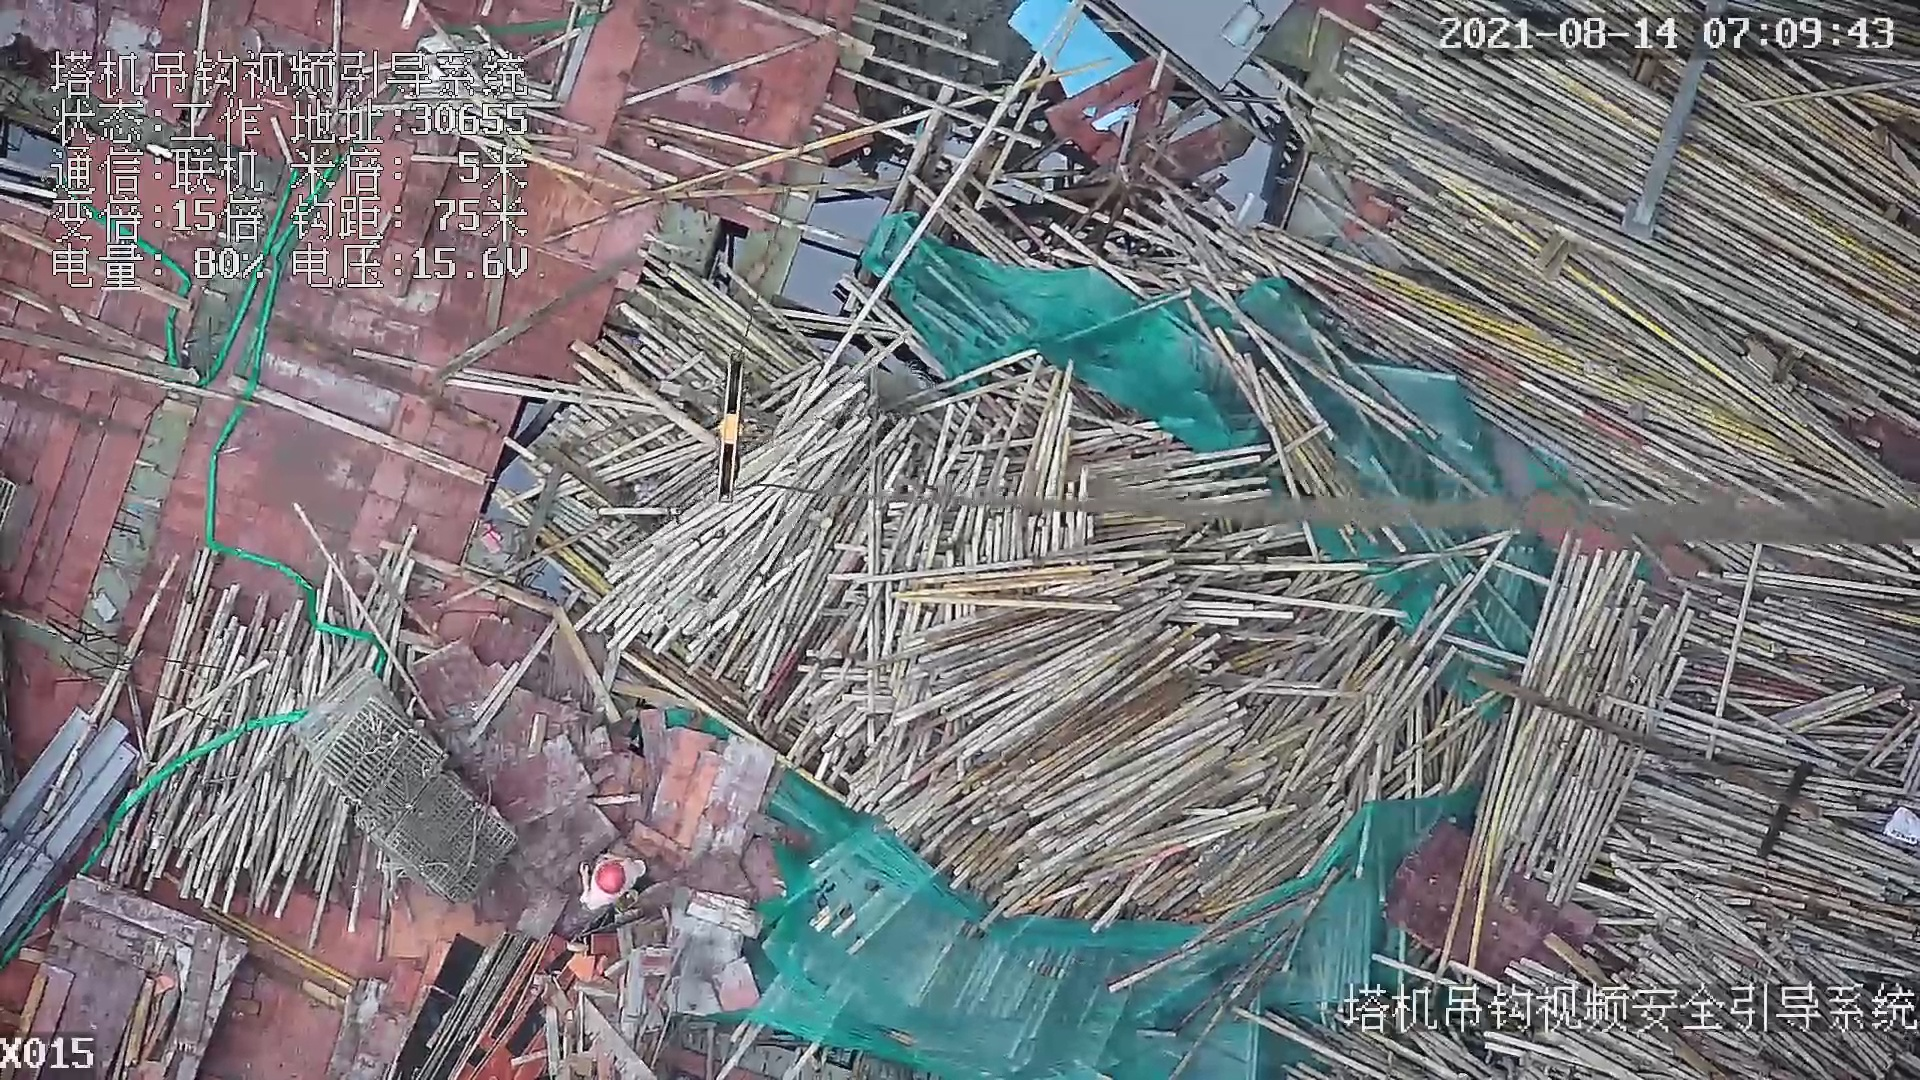helmet: (594, 860, 627, 895)
hook: (710, 354, 747, 499)
person: (559, 845, 654, 909)
